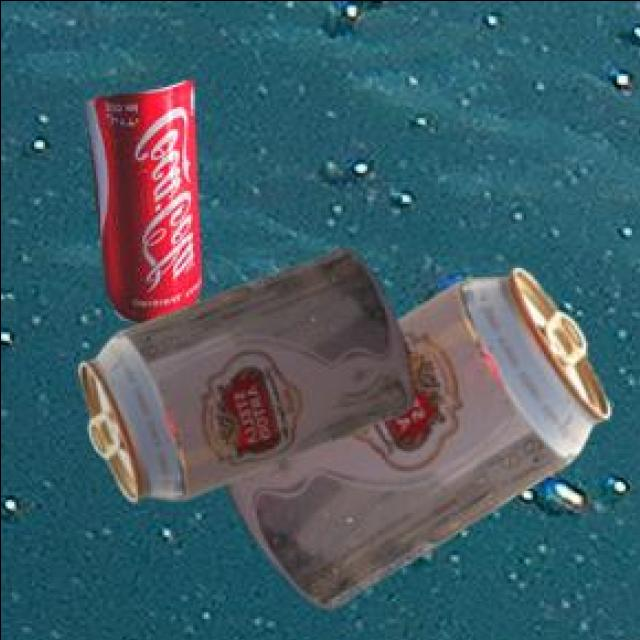logam: (228, 264, 612, 606), (81, 244, 416, 498), (89, 76, 204, 321)
